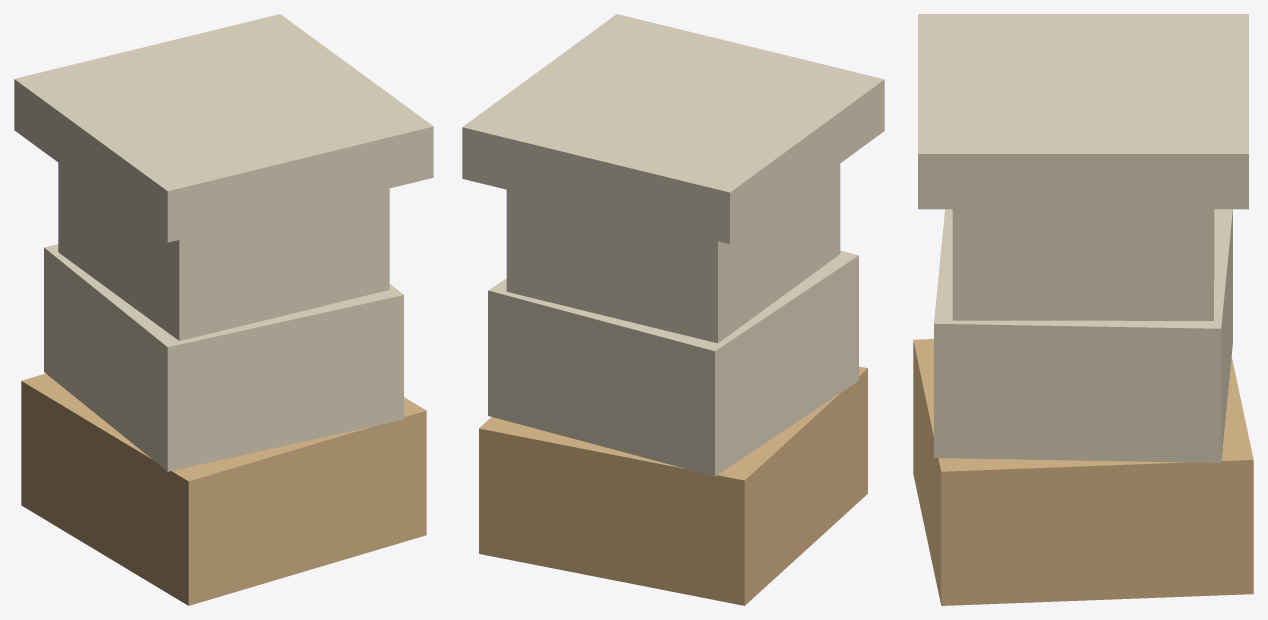
The model's file is fence-stone-post.lod1.glb.
3 renders of one model, left to right at view 1: azimuth 30°, elevation 25°; view 2: azimuth 150°, elevation 25°; view 3: azimuth 270°, elevation 25°, orthographic. The views are drawn at different scales.
Visible parts, largest first — view 1: fence-stone-post_lod1; view 2: fence-stone-post_lod1; view 3: fence-stone-post_lod1.
Part boxes in pixels (x1,y1,x2,y2): fence-stone-post_lod1: (14, 14, 433, 605); fence-stone-post_lod1: (462, 14, 884, 605); fence-stone-post_lod1: (913, 14, 1253, 605).
Bounding box in the file's own units: 0.3907 × 0.57 × 0.3907.
